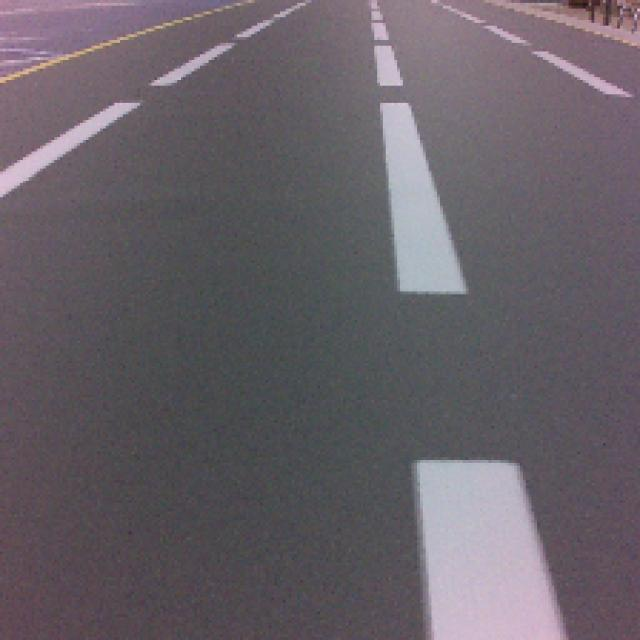Road: (0, 286, 428, 640)
